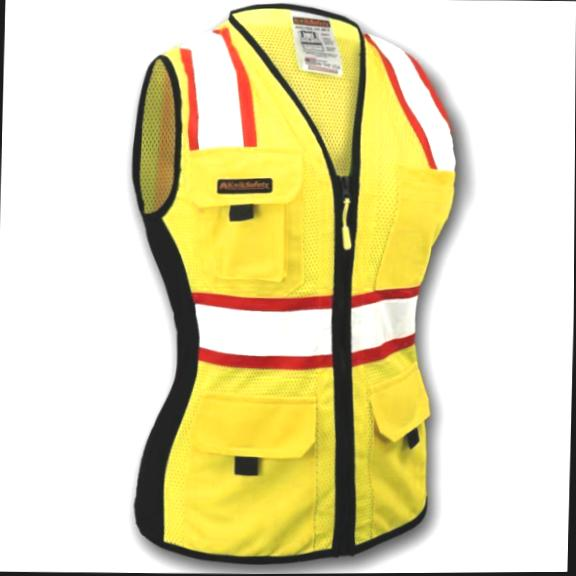safety_vest: (122, 0, 461, 562)
